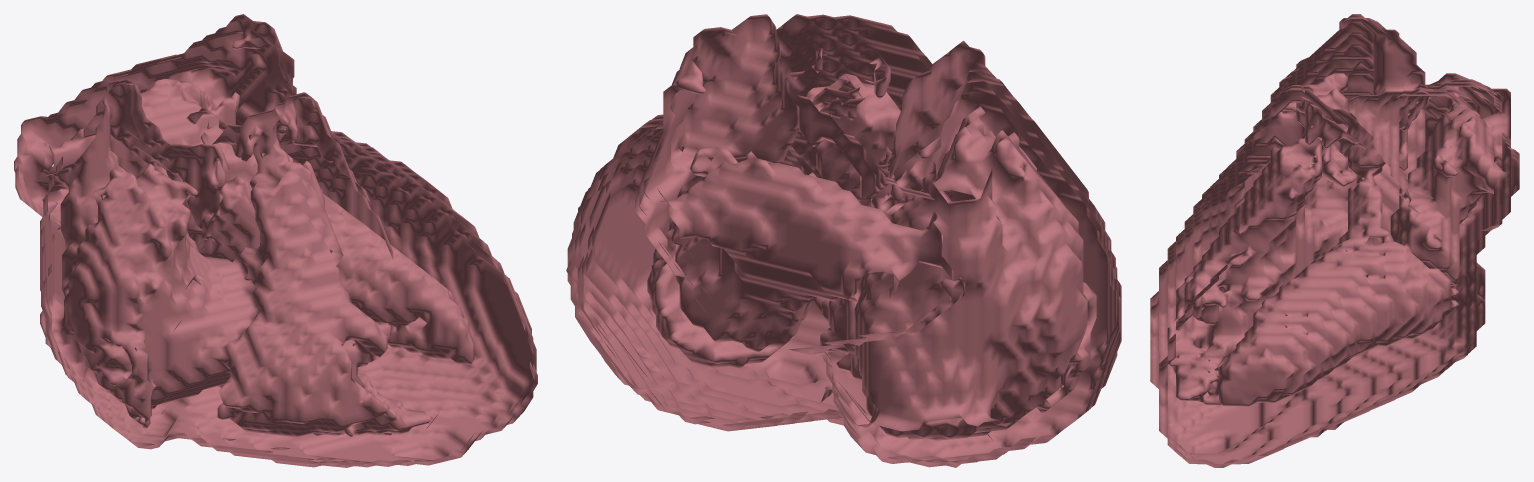
Rendered from heart_ar_simple.glb.
The picture shows the model from 3 angles, left to right: view 1: azimuth 30°, elevation 25°; view 2: azimuth 150°, elevation 25°; view 3: azimuth 270°, elevation 25°; orthographic projection. The views are drawn at different scales.
Visible parts, largest first — view 1: world; view 2: world; view 3: world.
Part boxes in pixels (box(x1,y1,x2,y2)): world: box(14, 14, 537, 467); world: box(566, 14, 1121, 467); world: box(1150, 14, 1519, 467).
Bounding box in the file's own units: 0.125 × 0.11 × 0.1075.
